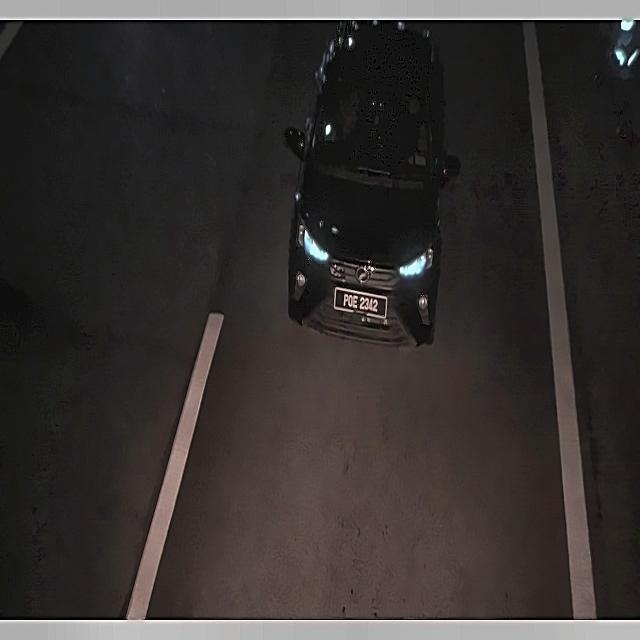car: (332, 281, 390, 328)
